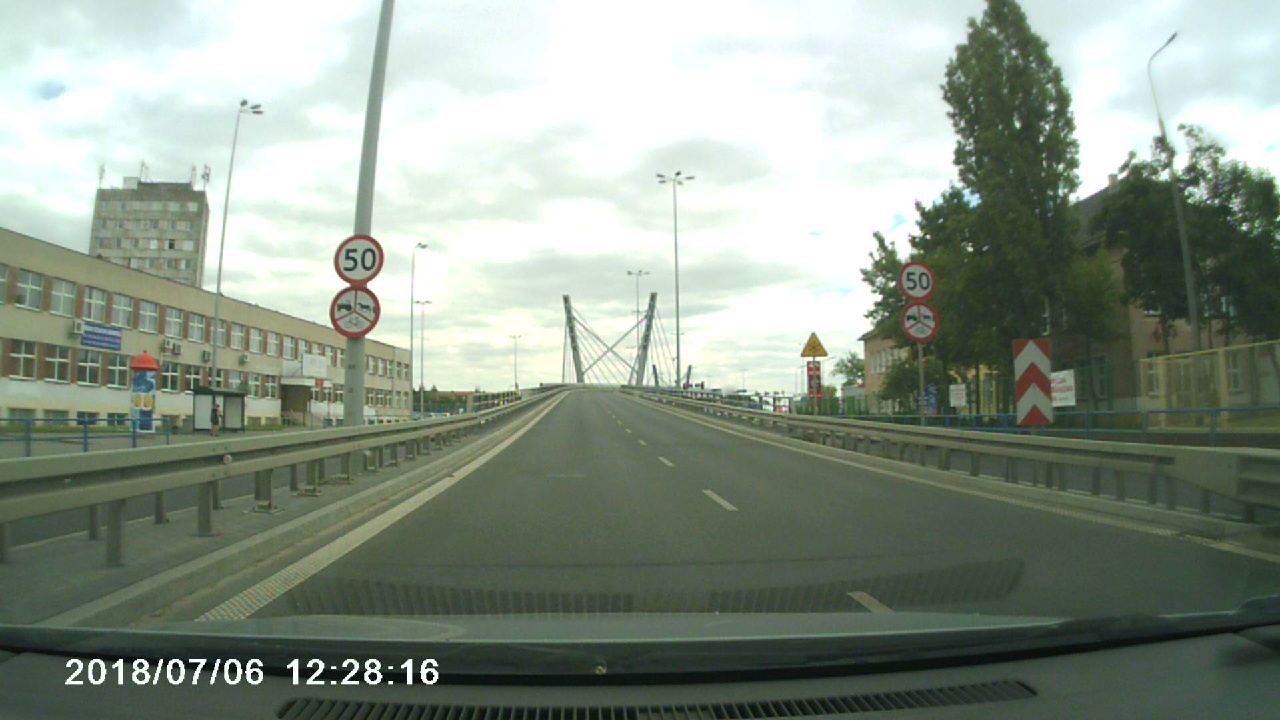B33_50: (334, 236, 384, 285), (899, 261, 935, 303)
